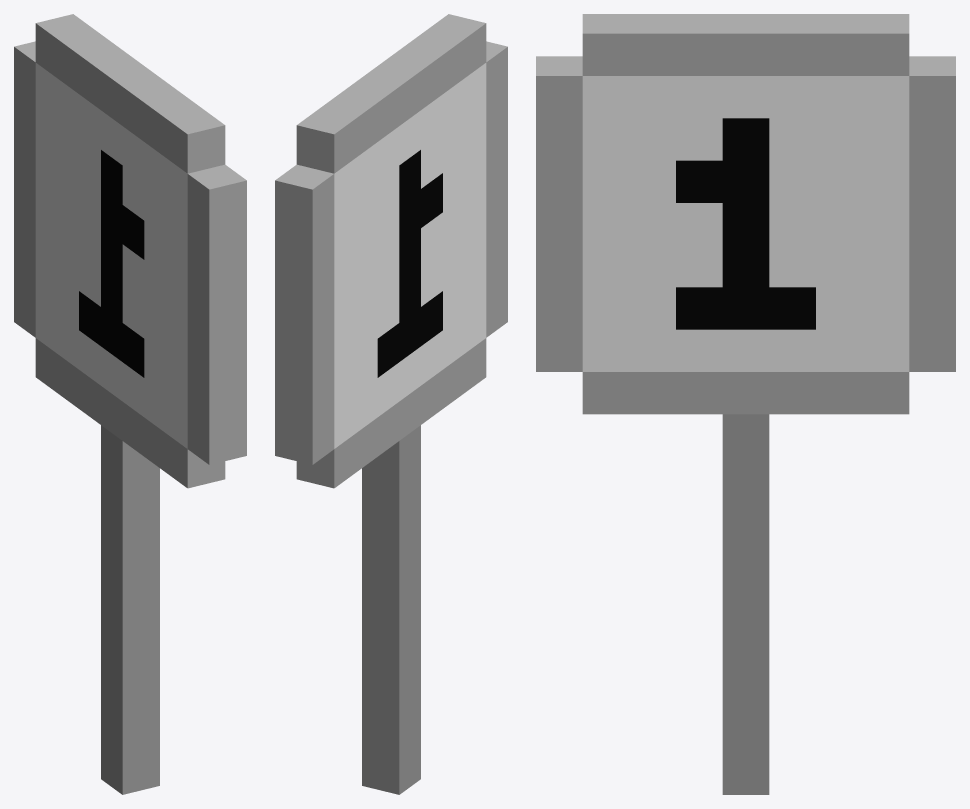
File: One.obj
3 renders of one model, left to right at view 1: azimuth 30°, elevation 25°; view 2: azimuth 150°, elevation 25°; view 3: azimuth 270°, elevation 25°, orthographic. The views are drawn at different scales.
Bounding box in the file's own units: 1 × 18 × 9.
1 material, 1 textured.
